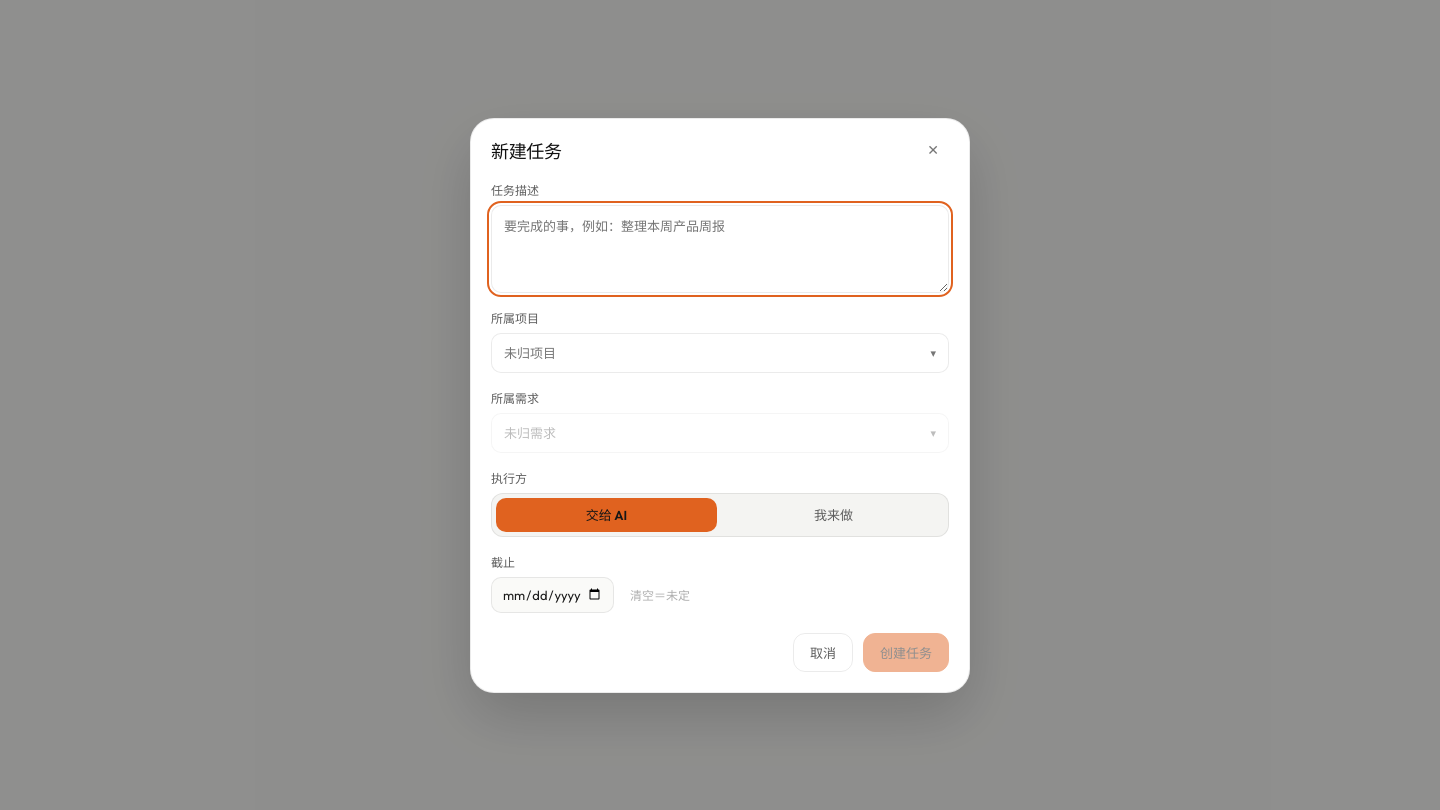
it: TaskEditModal 新建：所属需求 › 换所属项目后清空已选的所属需求
The width and height of the screenshot is (1440, 810).
Step 1. Click the button "未归项目 ▾" → point(530, 353), box [491,332,949,372]
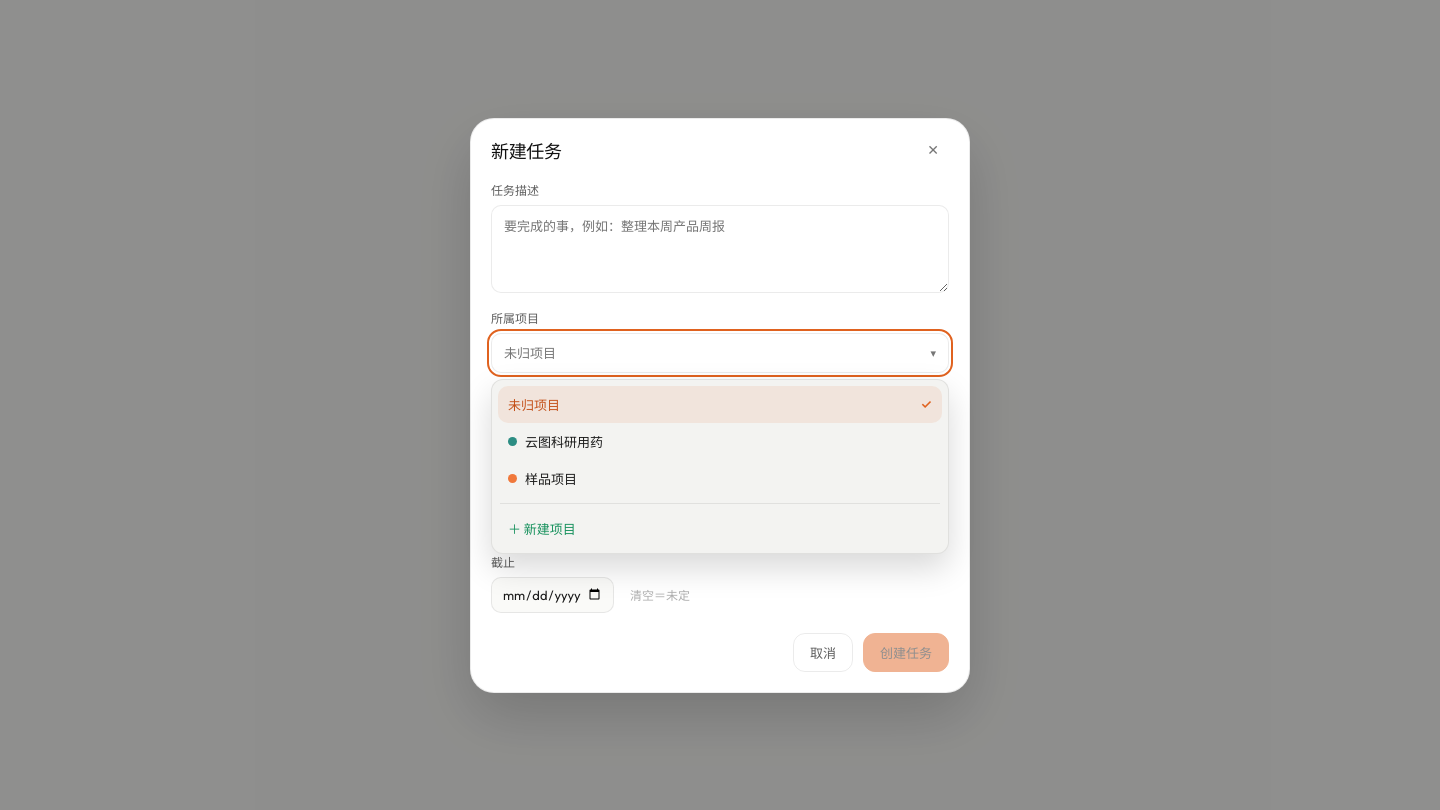
Step 2. Click the option "云图科研用药" → point(564, 442), box [498,422,942,460]
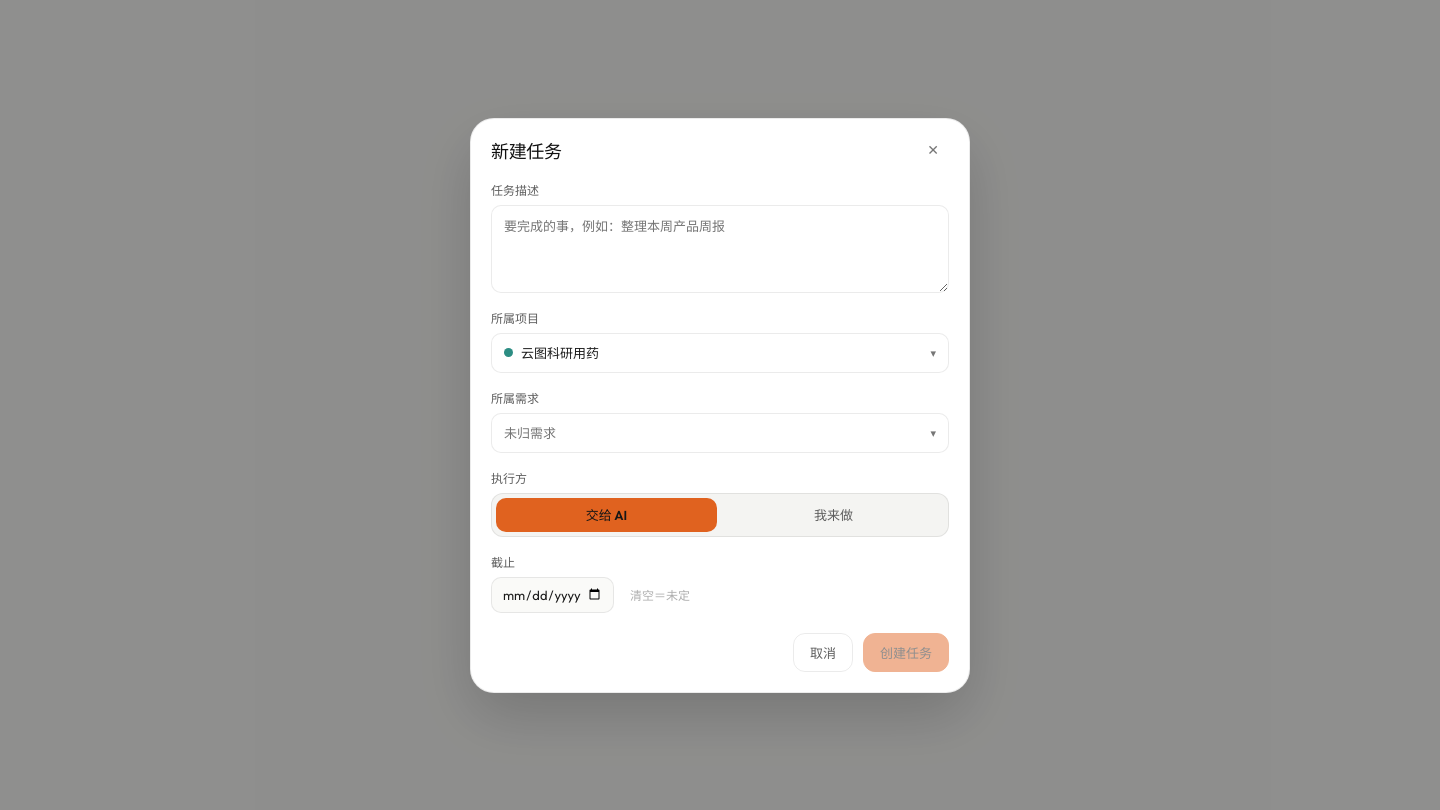
Step 3. Click the button "未归需求 ▾" → point(530, 433), box [491,412,949,452]
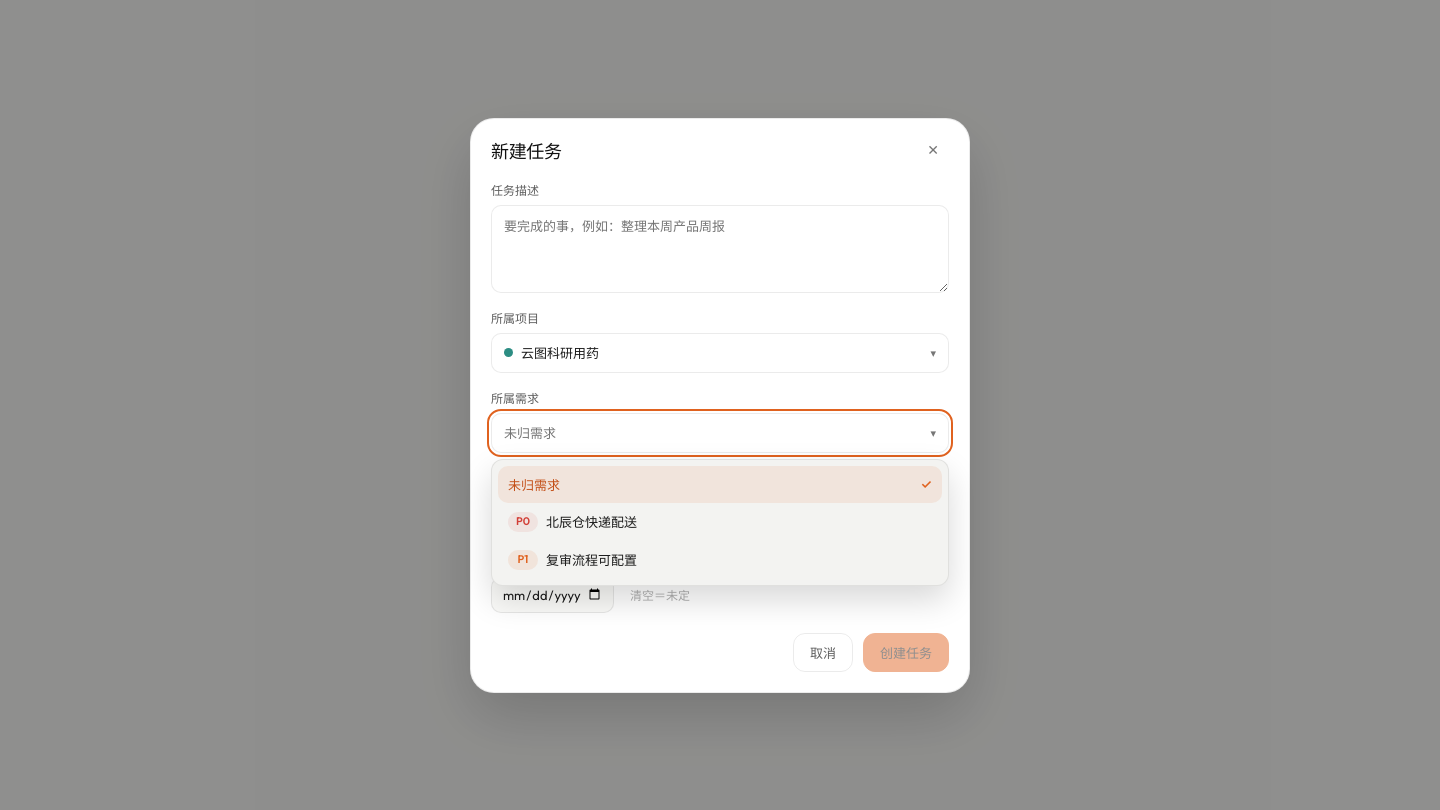
Step 4. Click the option "P0 北辰仓快递配送" → point(592, 522), box [498,502,942,540]
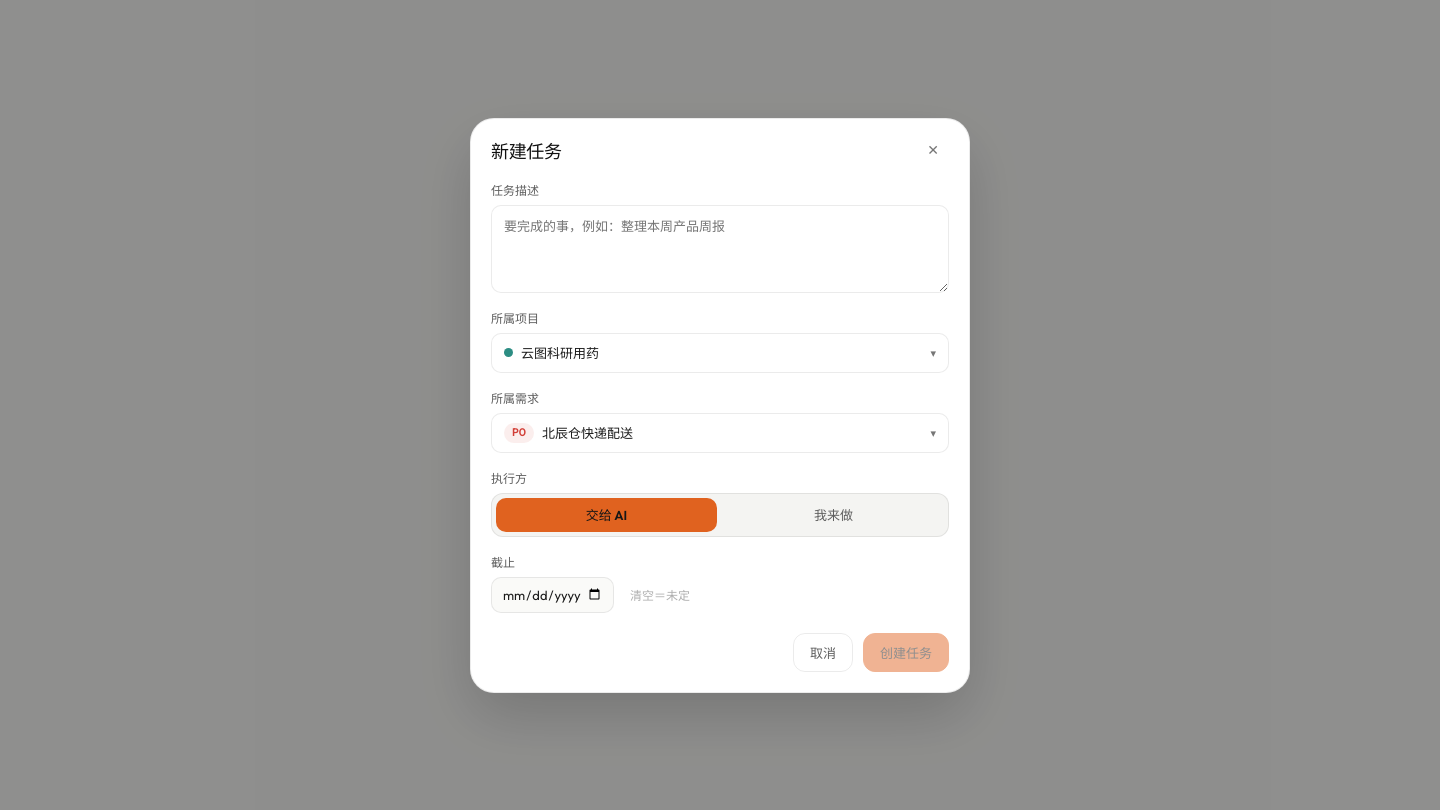
Check: the button "P0 北辰仓快递配送 ▾" is shown, box [491,412,949,452]
Step 5. Click the button "云图科研用药 ▾" → point(560, 353), box [491,332,949,372]
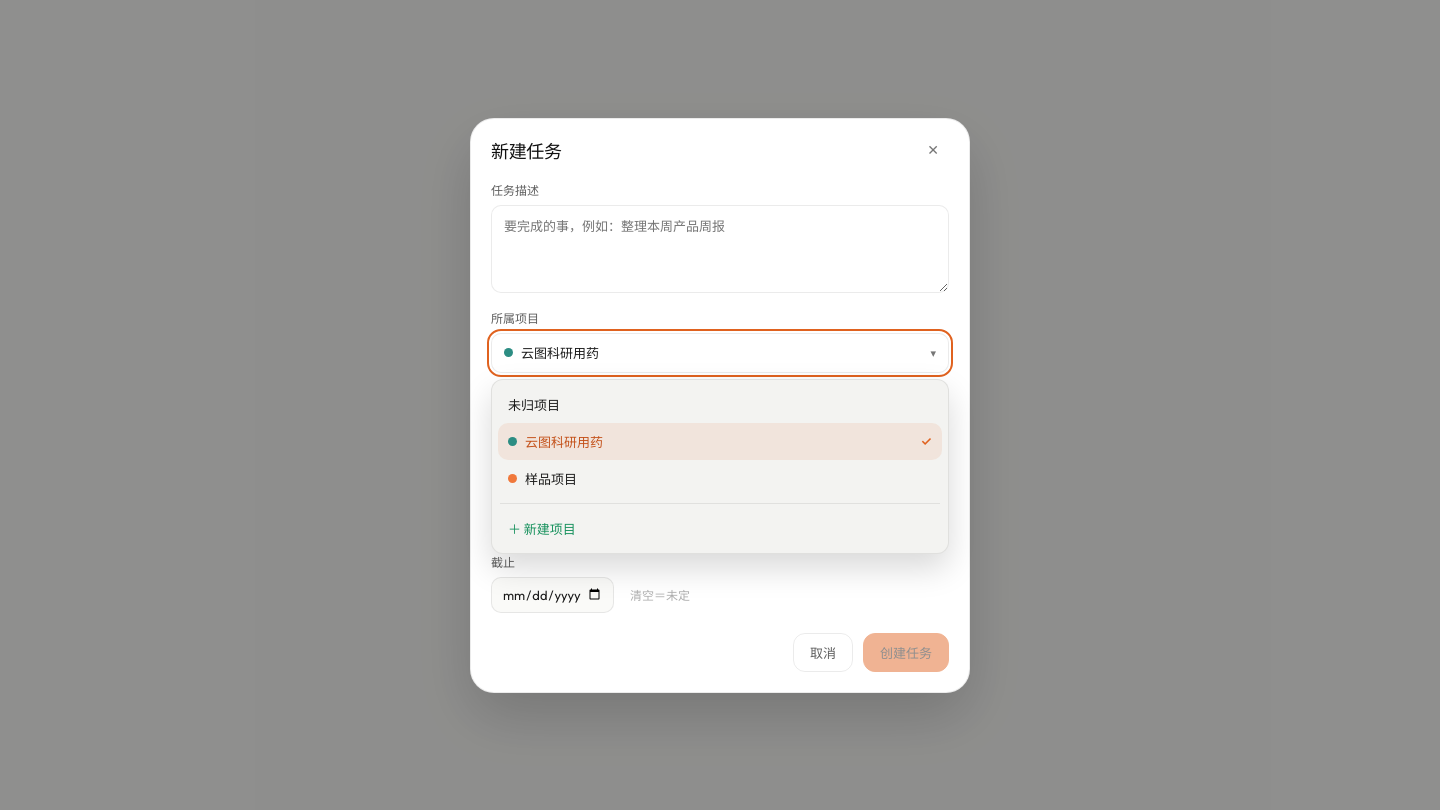
Step 6. Click the option "样品项目" → point(551, 478), box [498,460,942,496]
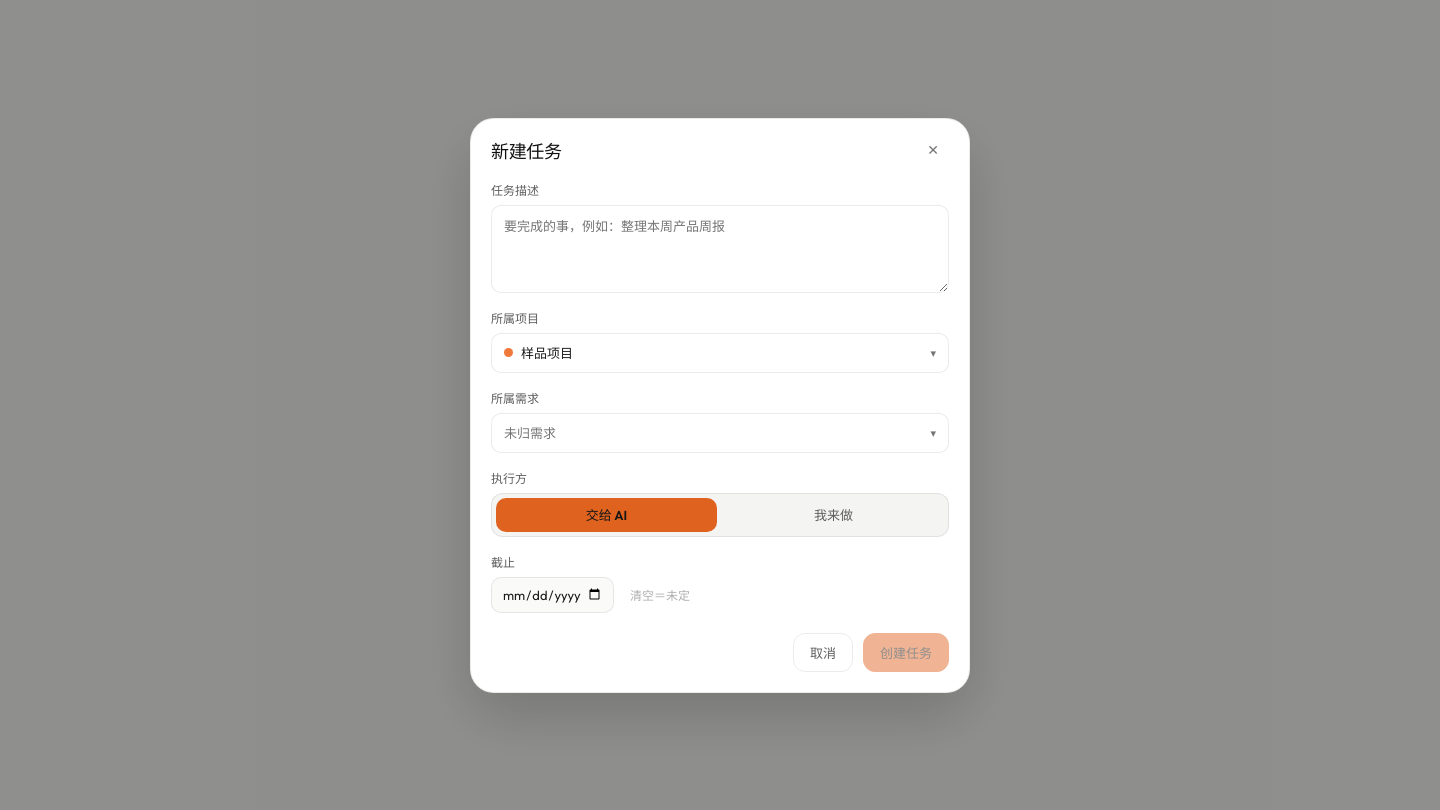
Check: the button "未归需求 ▾" is shown, box [491,412,949,452]
